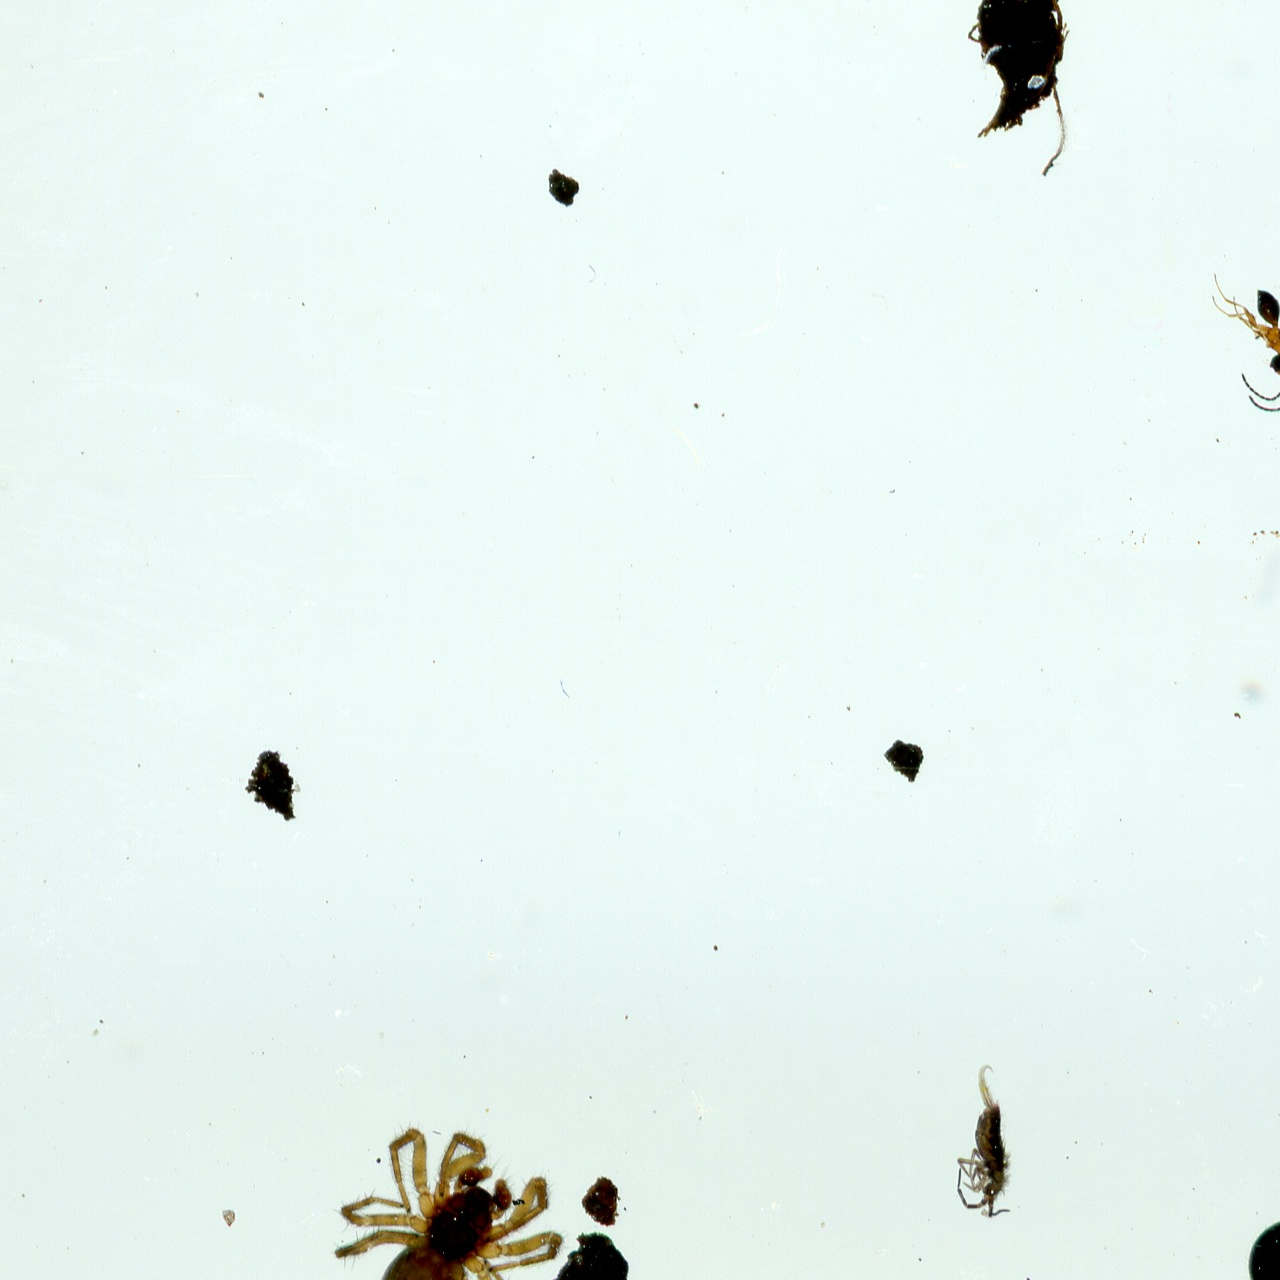arthropod: (320, 1118, 567, 1280), (948, 1057, 1018, 1225), (1208, 271, 1280, 425), (1224, 1198, 1280, 1280)
